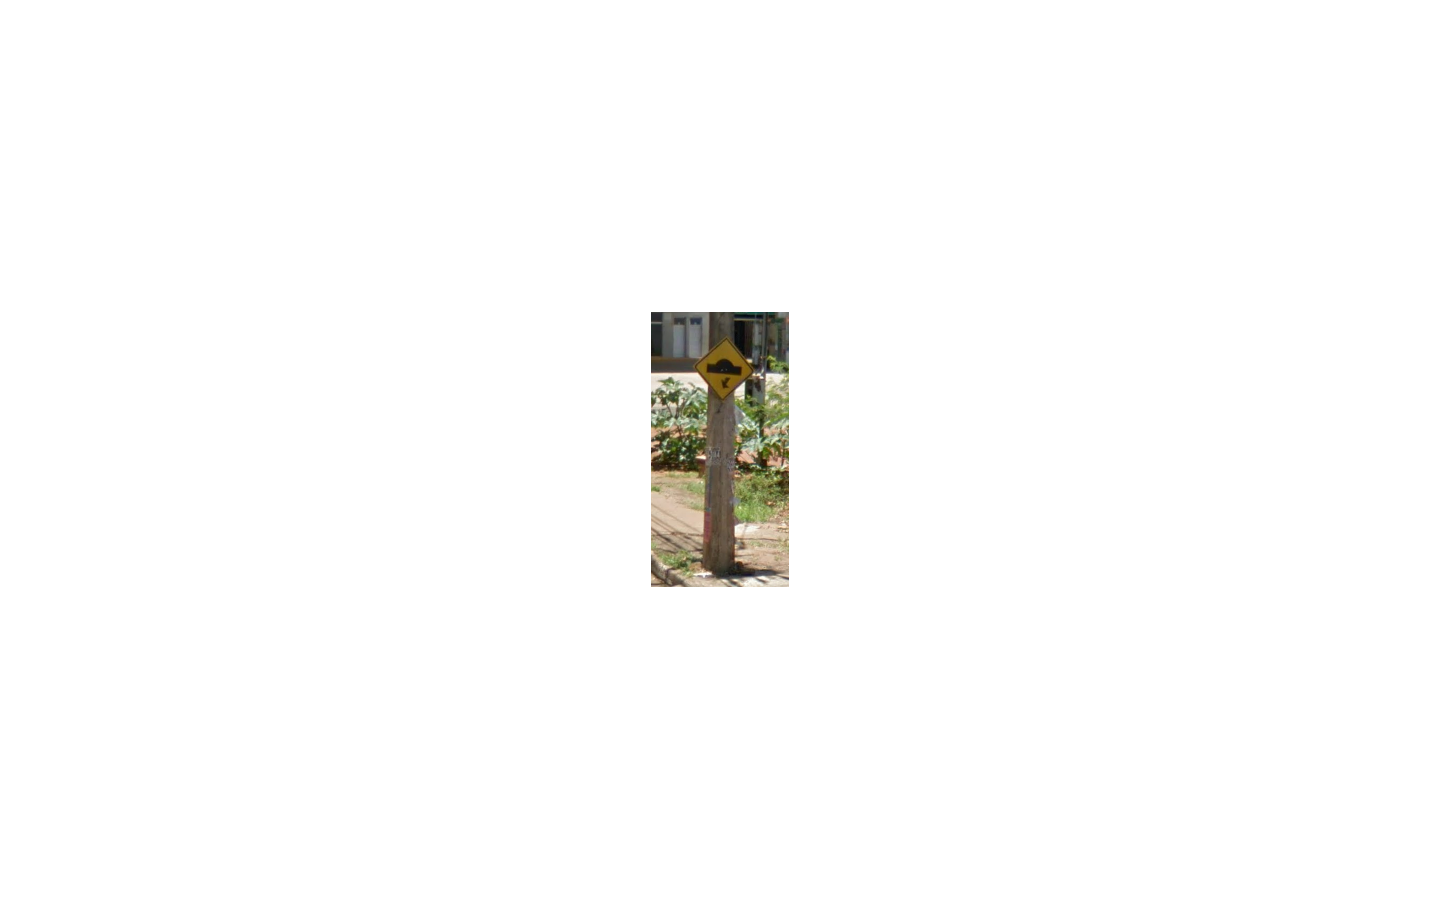lomb: (693, 336, 754, 400)
